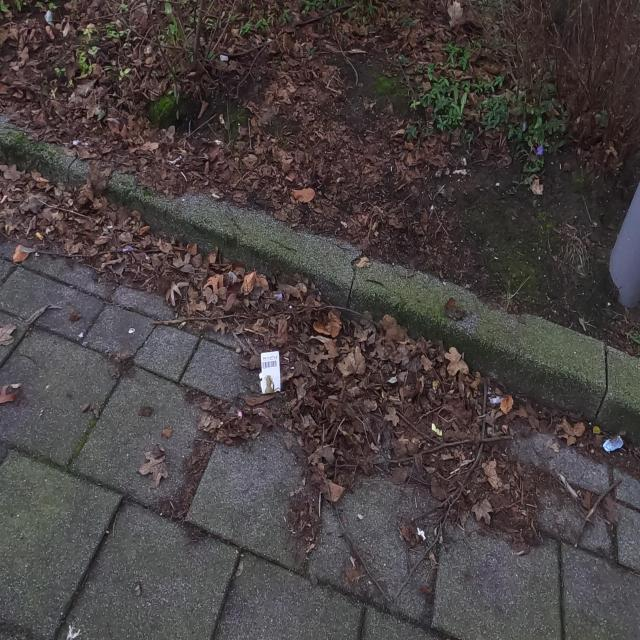Paper: (258, 350, 281, 394)
